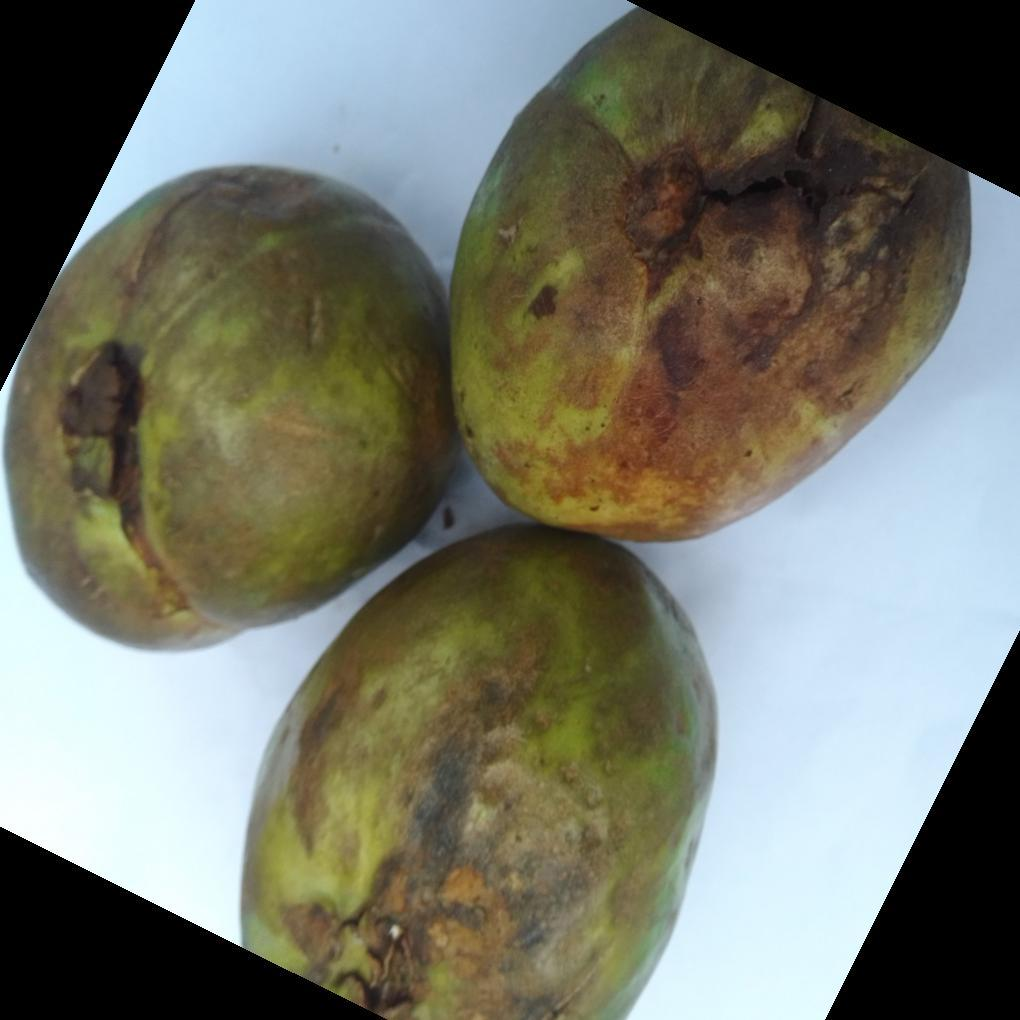FreshOrange: (0, 9, 973, 1020)
